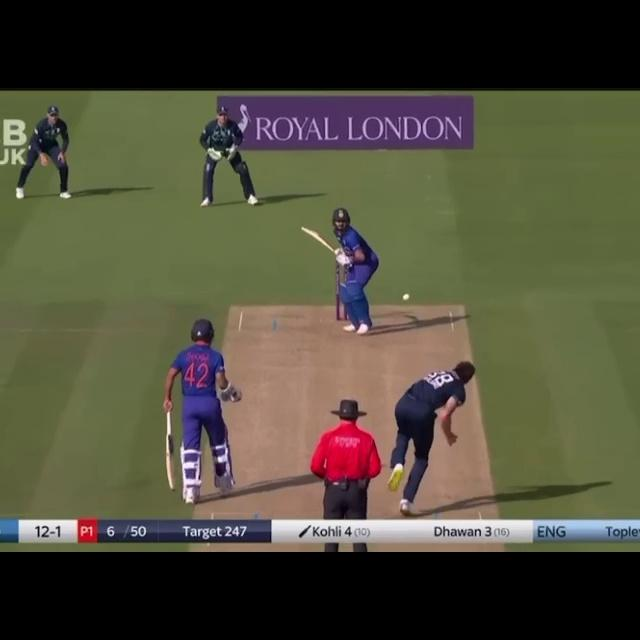umpire: (308, 390, 382, 551)
